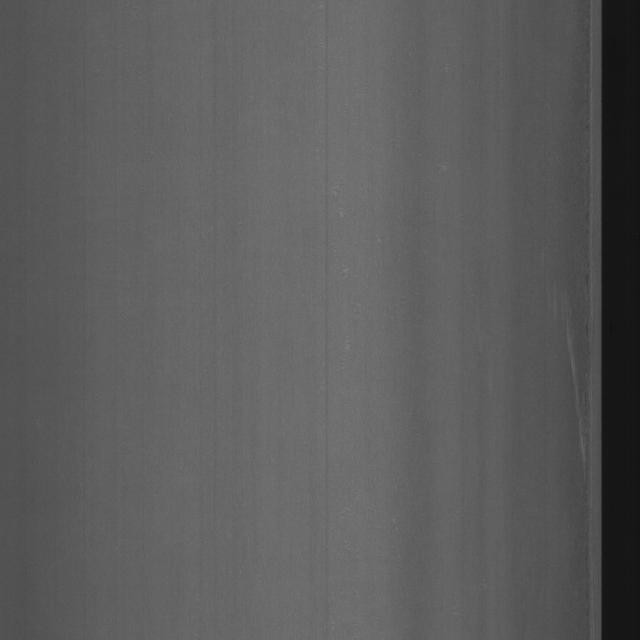inclusion: (563, 276, 598, 498)
